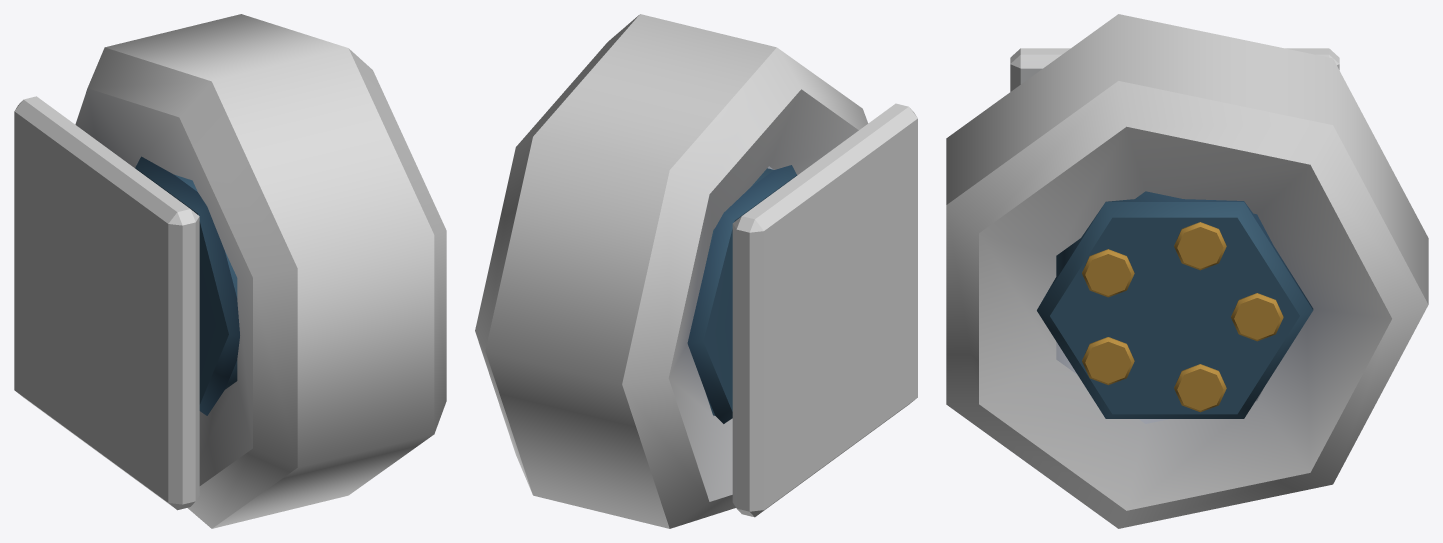
The model's file is R4M_WheelM_Side_Offroad_LOD1.fbx.
3 views of the same model, side by side, from view 1: azimuth 30°, elevation 25°; view 2: azimuth 150°, elevation 25°; view 3: azimuth 270°, elevation 25° (orthographic).
Parts seen in each view (by area): view 1: R4M_WheelM_Side_Offroad_LOD1; view 2: R4M_WheelM_Side_Offroad_LOD1; view 3: R4M_WheelM_Side_Offroad_LOD1.
Boxes of the visible parts, x1,y1,x2,y2 form: R4M_WheelM_Side_Offroad_LOD1: (14,14,446,528); R4M_WheelM_Side_Offroad_LOD1: (475,14,917,528); R4M_WheelM_Side_Offroad_LOD1: (946,14,1428,528).
Size of the model in its own units: 0.452 by 0.7507 by 0.7319.
